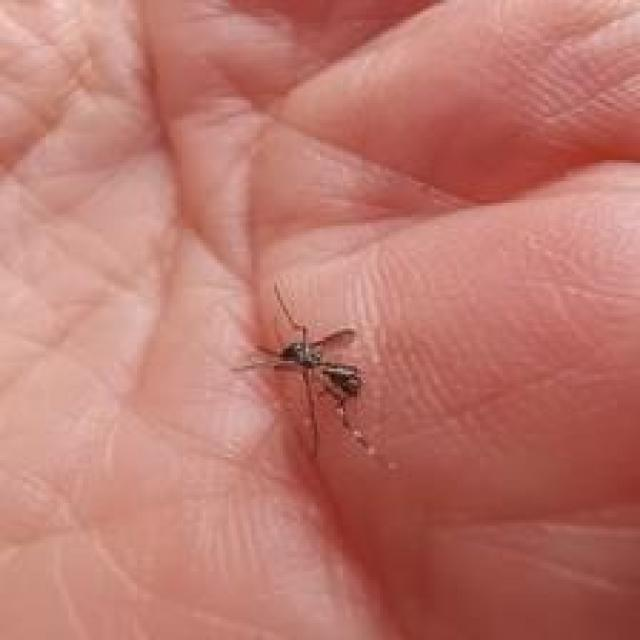Aedes albopictus: (230, 282, 387, 462)
